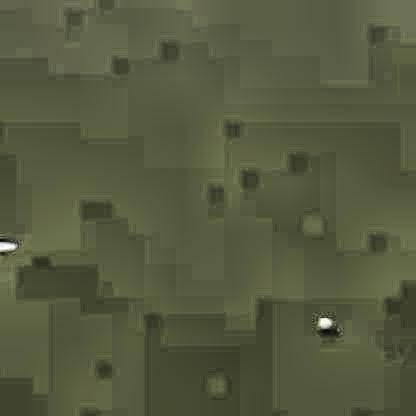golfball: (316, 315, 331, 327)
